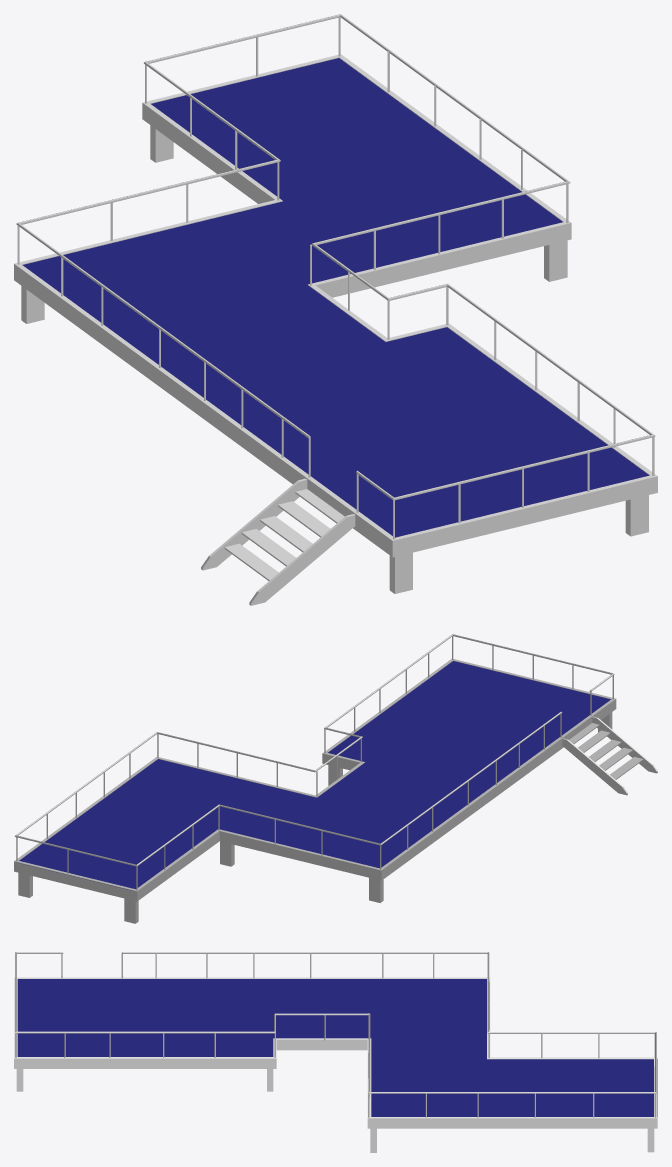
Rendered from Platform_1_V1.FBX.
3 views of the same model, one above another, from view 1: azimuth 30°, elevation 25°; view 2: azimuth 150°, elevation 25°; view 3: azimuth 270°, elevation 25° (orthographic). The views are drawn at different scales.
Parts seen in each view (by area): view 1: Platform_1; view 2: Platform_1; view 3: Platform_1.
Boxes of the visible parts, x1,y1,x2,y2 form: Platform_1: (14, 14, 657, 605); Platform_1: (14, 634, 657, 923); Platform_1: (14, 952, 657, 1152).
Size of the model in its own units: 490 by 89.62 by 770.
